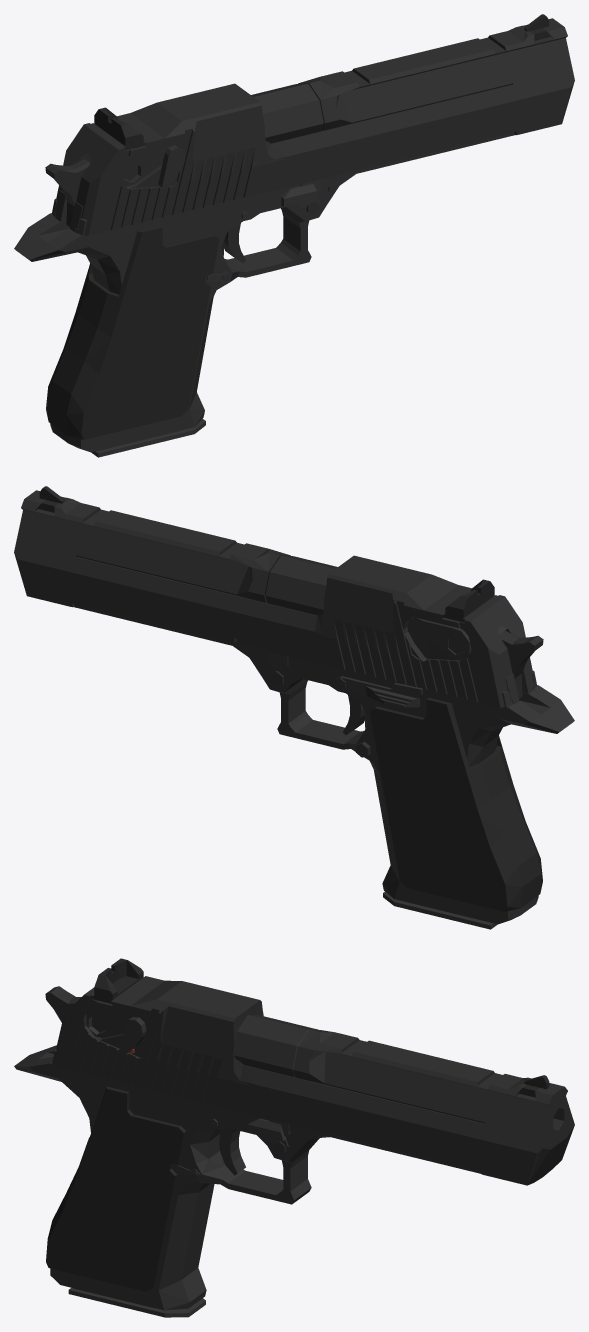
The model's file is pistol_deagle-named-nodes.glb.
3 renders of one model, top to bottom at view 1: azimuth 30°, elevation 25°; view 2: azimuth 150°, elevation 25°; view 3: azimuth 330°, elevation 25°, orthographic.
Parts seen in each view (by area): view 1: Object_4, Object_10, Object_8, Object_13; view 2: Object_4, Object_10, Object_8, Object_13; view 3: Object_4, Object_10, Object_8, Object_13.
Part boxes in pixels (<box>): Object_4: <box>45,18,574,450</box>; Object_10: <box>46,14,550,439</box>; Object_8: <box>14,132,514,452</box>; Object_13: <box>81,154,320,457</box>; Object_4: <box>14,490,543,757</box>; Object_10: <box>38,486,542,911</box>; Object_8: <box>74,604,574,924</box>; Object_13: <box>268,626,507,929</box>; Object_4: <box>45,976,574,1308</box>; Object_10: <box>46,958,549,1291</box>; Object_8: <box>14,1008,481,1310</box>; Object_13: <box>68,1017,290,1317</box>.
Size of the model in its own units: 4.28 by 2.46 by 0.5909.
Materials: 1 (1 with a texture image).
